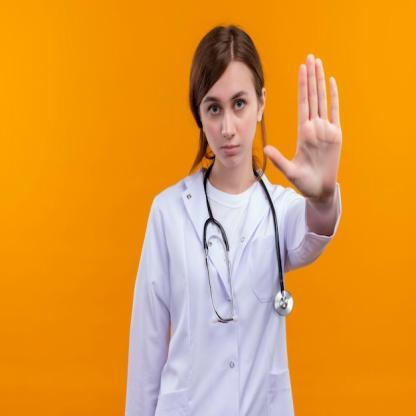stop: (260, 52, 348, 209)
